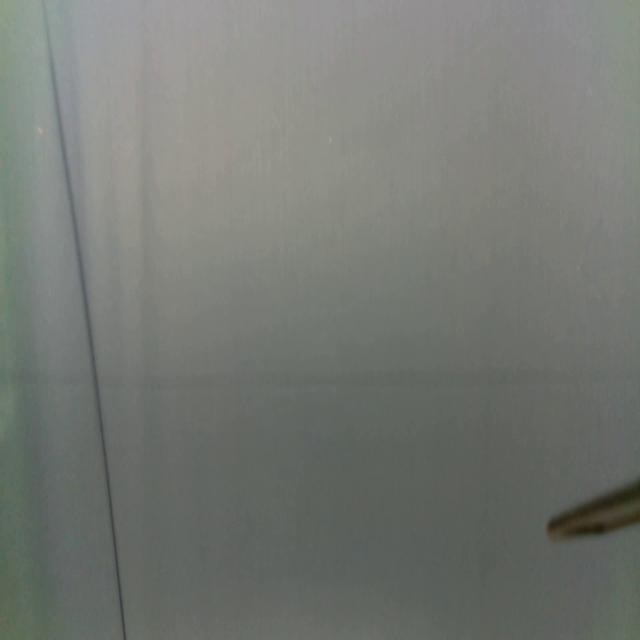color bleeding: (0, 356, 640, 397)
crease: (43, 1, 128, 640)
